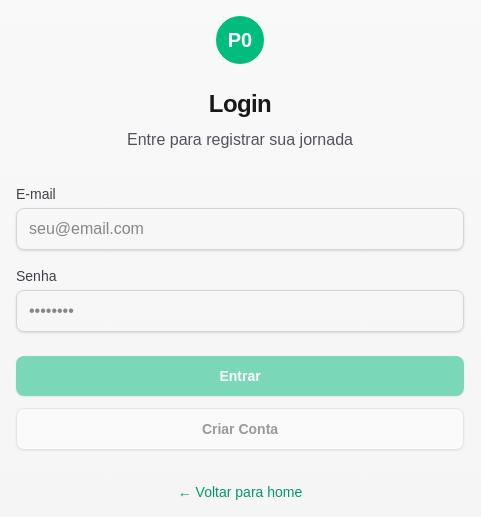
Test: Login page › enables sign up button when email and password are filled
This screenshot has width=481, height=517.
Type "new@example.com" into the field labelled "E-mail" at (240, 229), box [16,208,464,250]
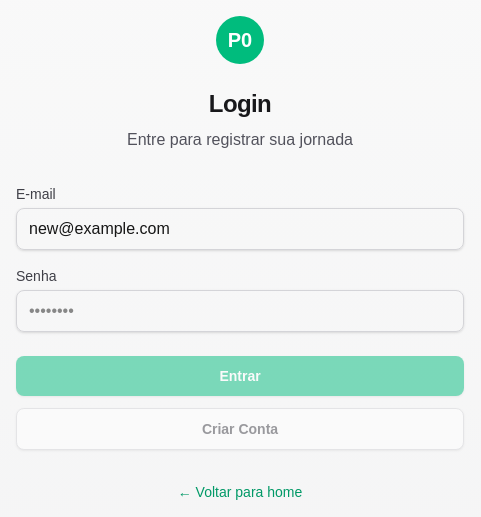
Type "newpassword123" into the password field labelled "Senha" at (240, 311), box [16,290,464,332]
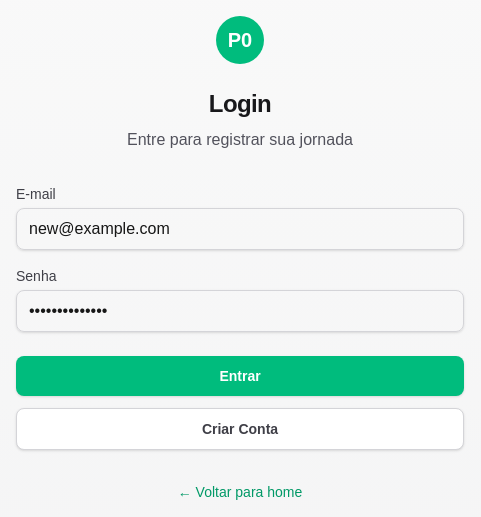
Check: the button "Criar Conta" is enabled, box [16,408,464,450]
